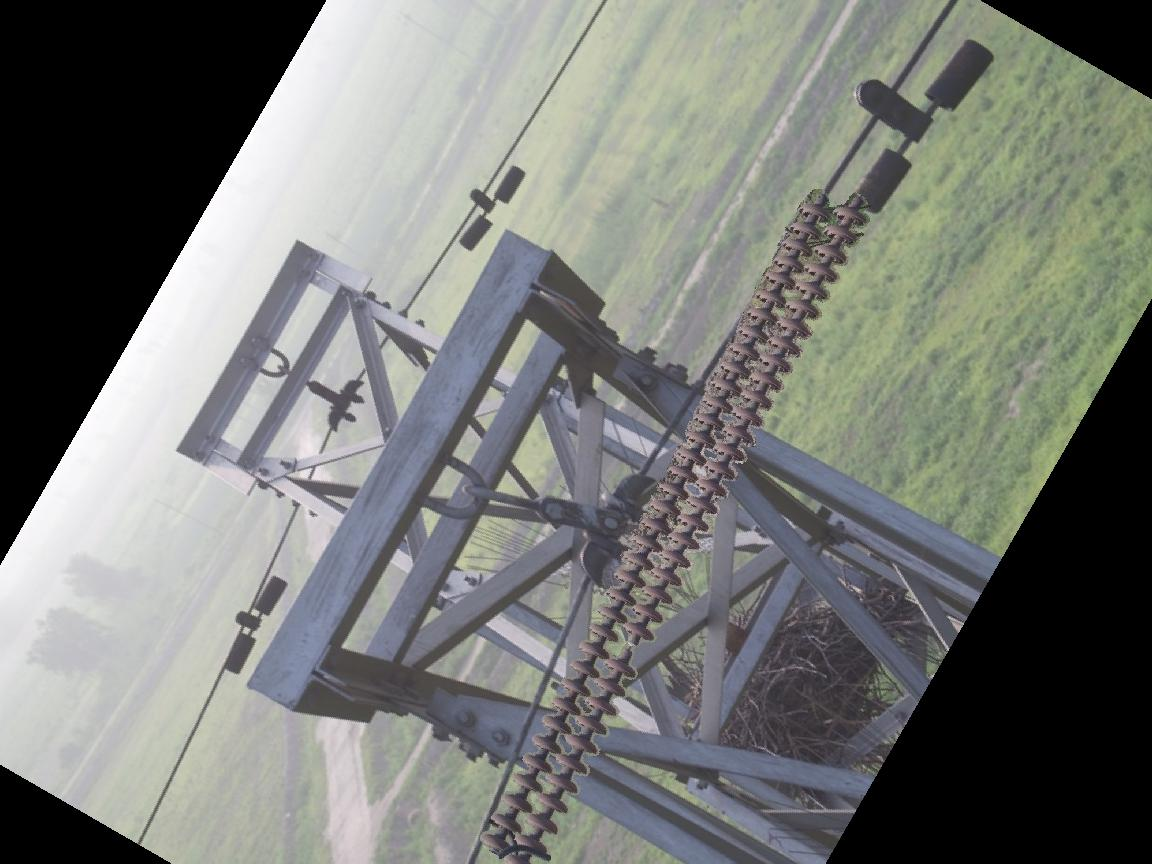insulator: (473, 192, 870, 864)
insulator_stringdrop: (603, 617, 656, 680)
